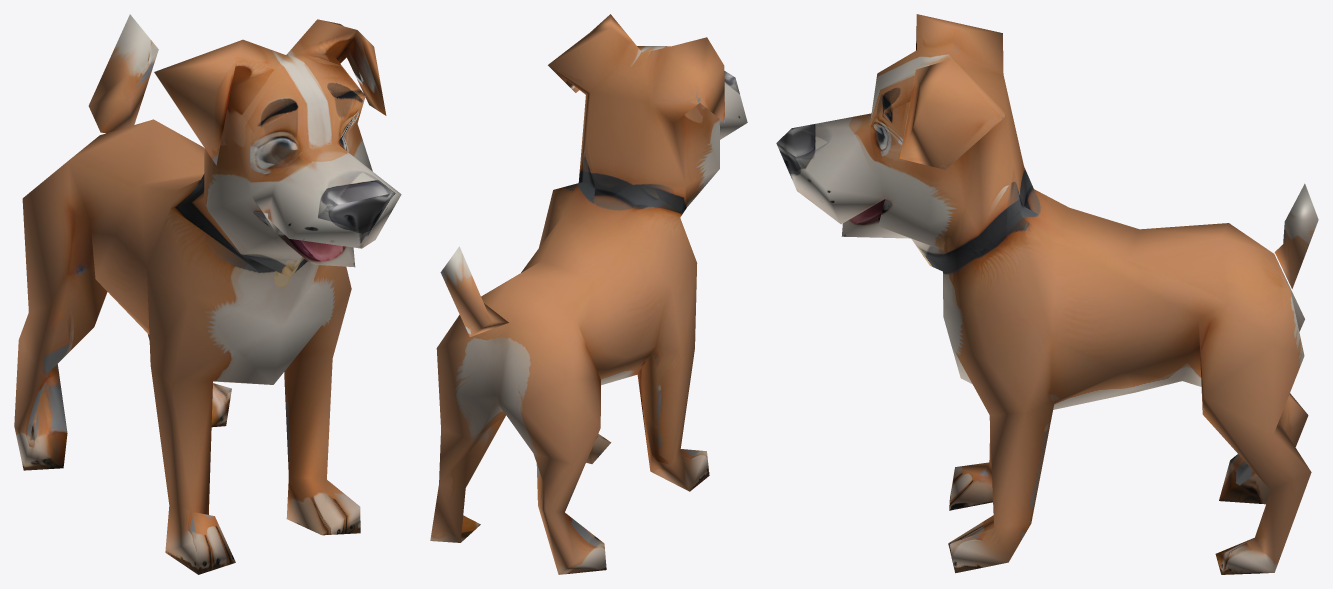
File: TripoModel.glb
3 views of the same model, side by side, from view 1: azimuth 30°, elevation 25°; view 2: azimuth 150°, elevation 25°; view 3: azimuth 270°, elevation 25° (orthographic). The views are drawn at different scales.
Parts seen in each view (by area): view 1: tripo_node_62c37583-0c18-42f3-94ef-60f9dfe14e2c; view 2: tripo_node_62c37583-0c18-42f3-94ef-60f9dfe14e2c; view 3: tripo_node_62c37583-0c18-42f3-94ef-60f9dfe14e2c.
Boxes of the visible parts, left/top/right/bottom form: tripo_node_62c37583-0c18-42f3-94ef-60f9dfe14e2c: left=14, top=14, right=401, bottom=574; tripo_node_62c37583-0c18-42f3-94ef-60f9dfe14e2c: left=430, top=14, right=747, bottom=574; tripo_node_62c37583-0c18-42f3-94ef-60f9dfe14e2c: left=776, top=14, right=1318, bottom=574.
Bounding box in the file's own units: 0.4111 × 0.9957 × 0.9908.
Materials: 1 (1 with a texture image).
